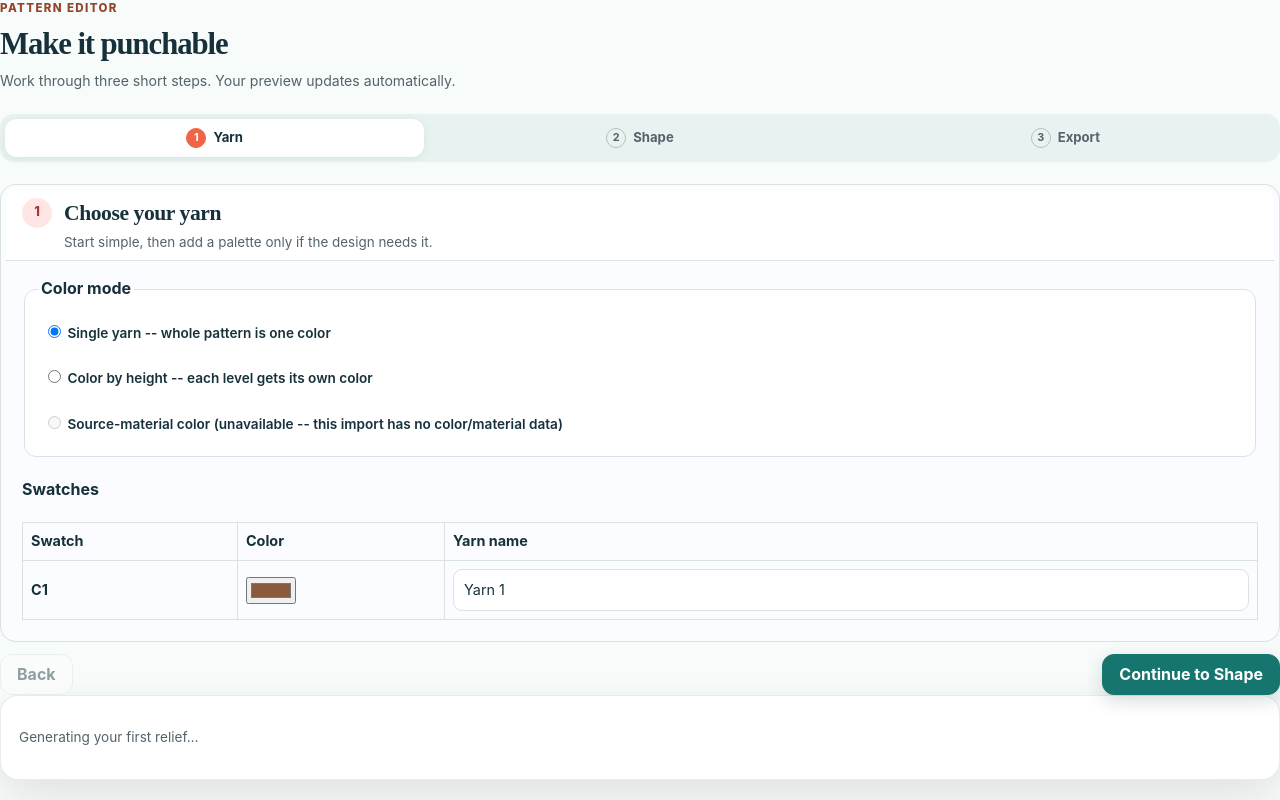
Test case: Workspace › EXP-002: move yarn palette selection earlier › opens on Yarn-then-Shape when enrolled in the earlier variant
The width and height of the screenshot is (1280, 800).
Check: the heading "Choose your yarn" is shown, box [64,201,221,225]
Check: the heading "Shape the relief" is not shown
Click the button "2 Shape": (640, 138) [430,119,850,157]
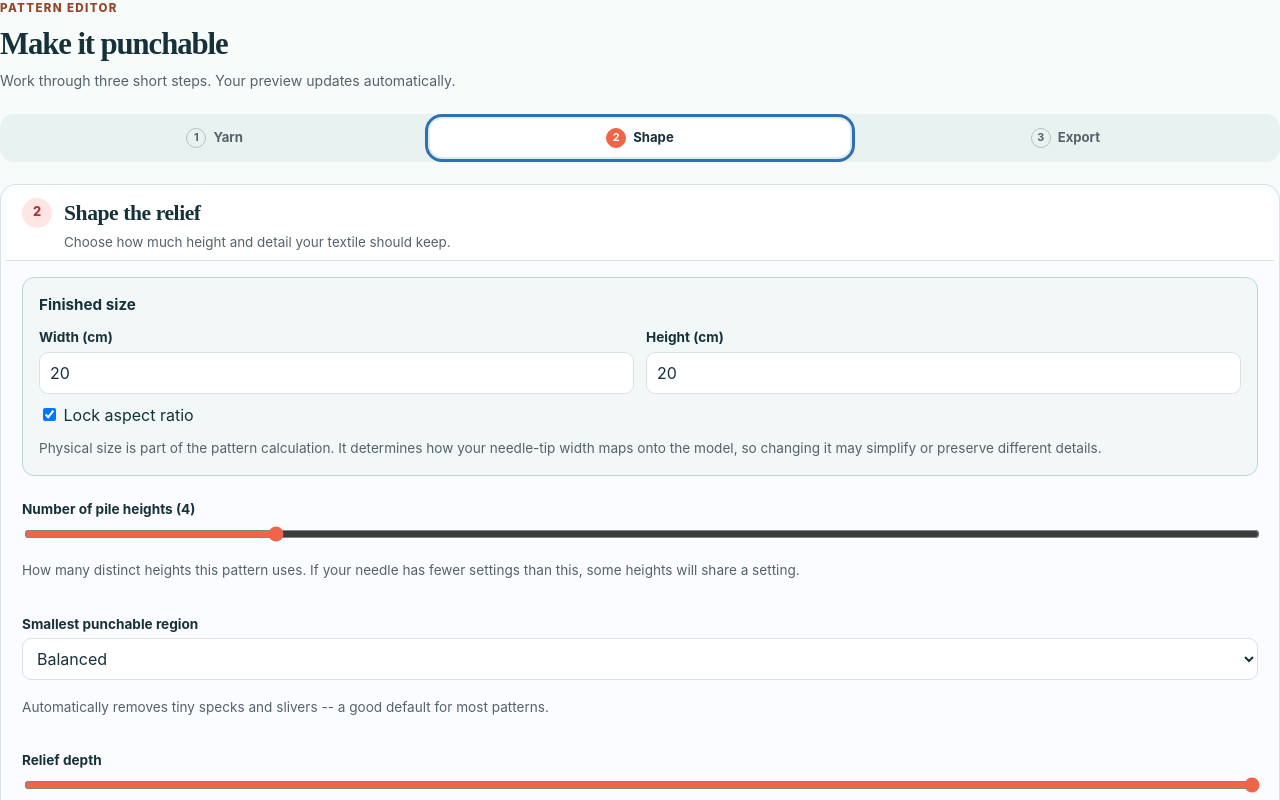
Check: the heading "Shape the relief" is shown, box [64,201,201,225]
Click the button "3 Export": (1065, 138) [856,119,1275,157]
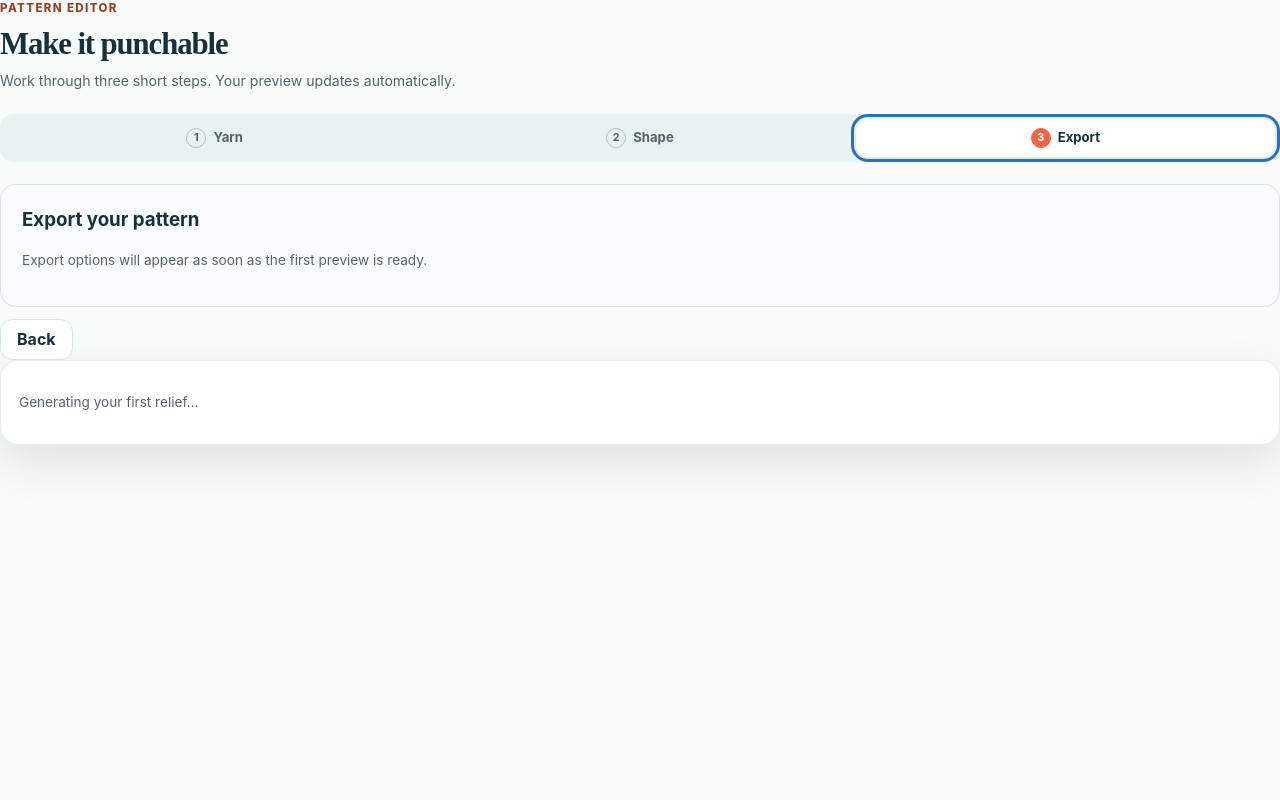
Check: the text "Export options will appear as soon as" is shown, box [22,252,427,268]
